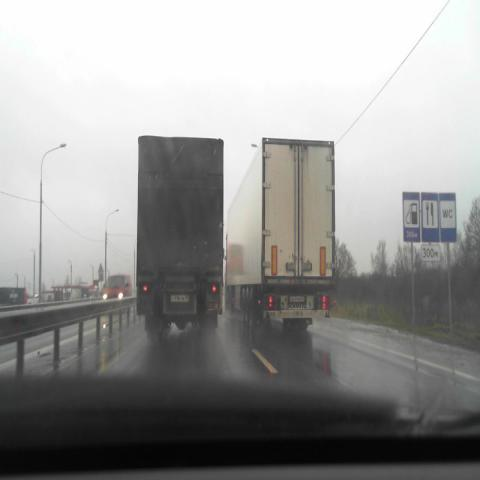7_18: (439, 193, 458, 243)
7_3: (403, 192, 421, 243)
7_7: (421, 192, 440, 243)
8_1_1: (422, 244, 440, 260)
